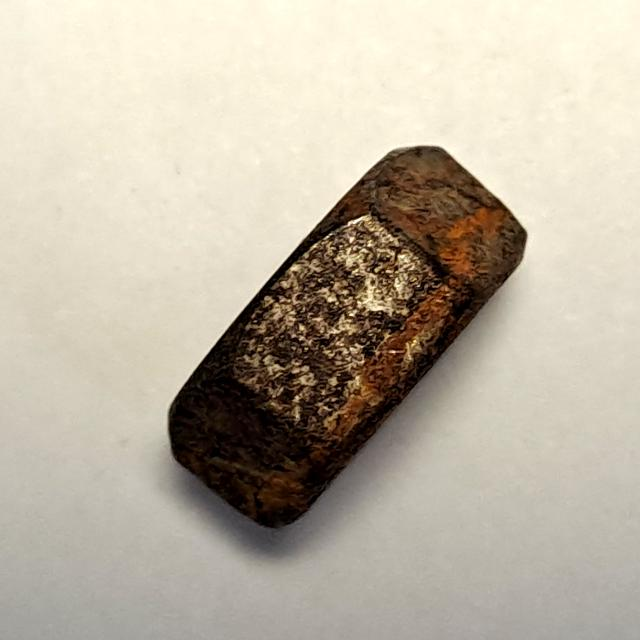Side_Rust: (154, 136, 543, 547)
